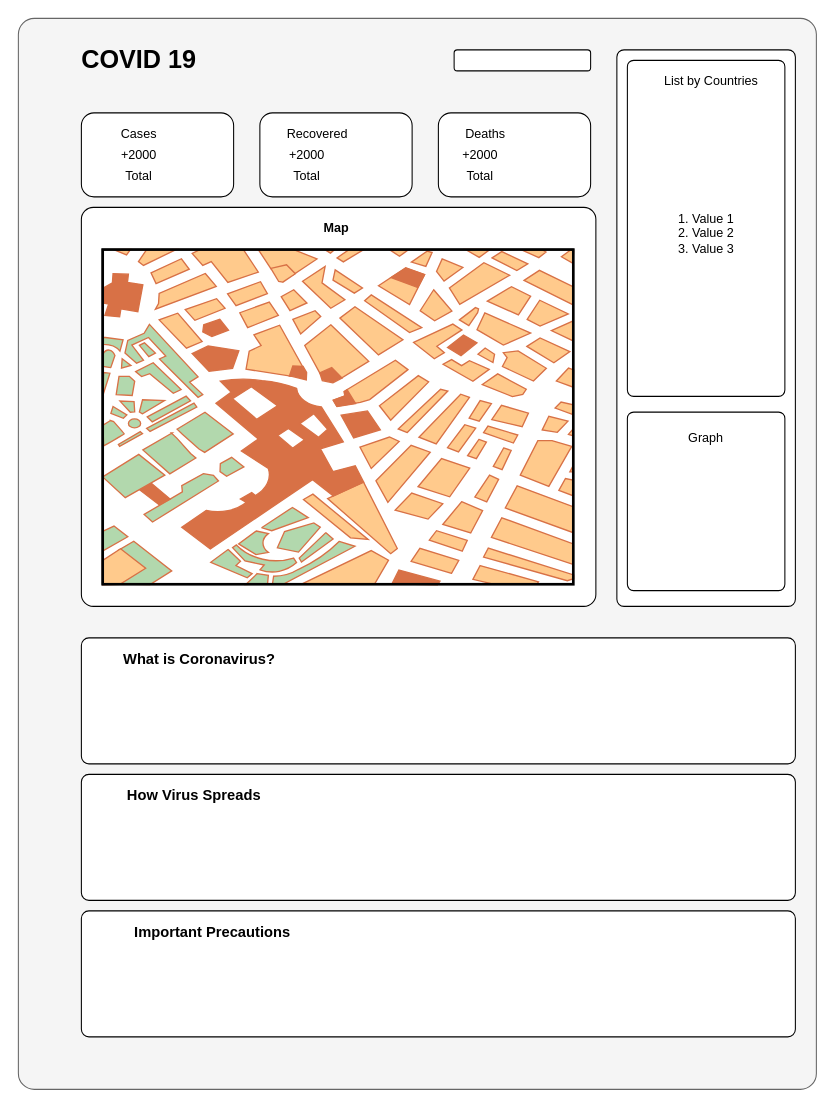
The diagram is 835 pixels wide and 1108 high, and some of its shapes have lost their labels. Each missing label, with the box of its shape:
Countries Dropdown: (453, 49, 591, 71)
Text: (101, 248, 575, 585)
